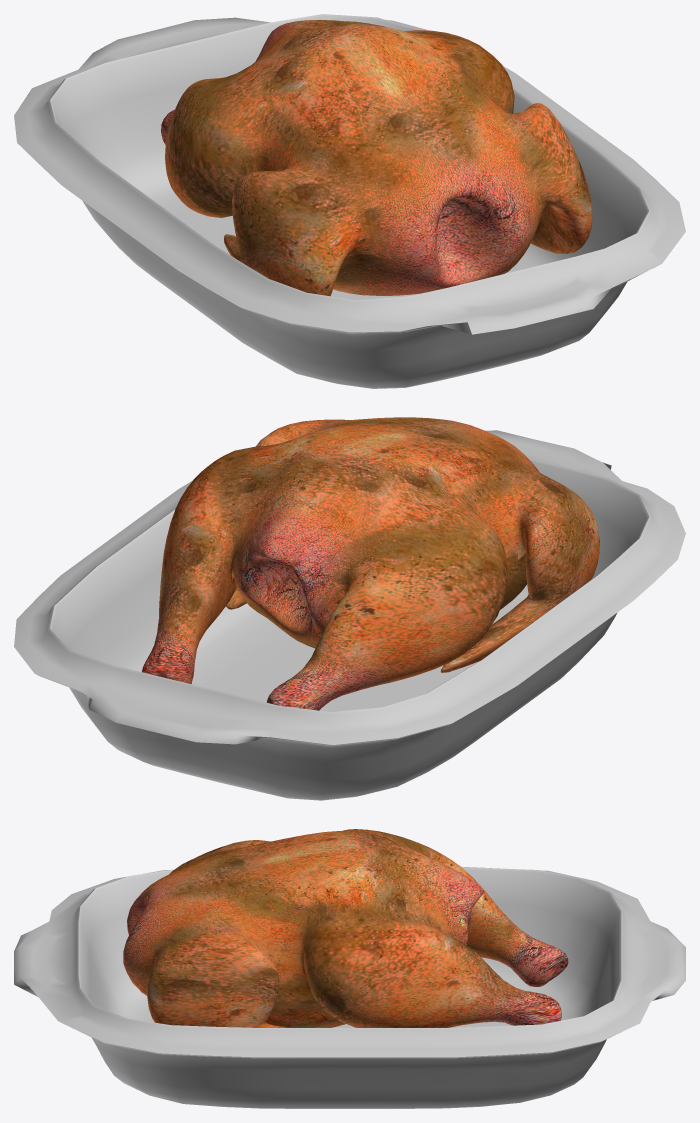
File: pollo.fbx
3 renders of one model, top to bottom at view 1: azimuth 30°, elevation 25°; view 2: azimuth 150°, elevation 25°; view 3: azimuth 270°, elevation 25°, orthographic. The views are drawn at different scales.
Parts seen in each view (by area): view 1: pollo, piatti_remesh; view 2: pollo, piatti_remesh; view 3: piatti_remesh, pollo.
Part boxes in pixels (x1,y1,x2,y2): pollo: (161, 20, 592, 296); piatti_remesh: (14, 14, 685, 388); pollo: (141, 417, 599, 710); piatti_remesh: (14, 430, 685, 800); piatti_remesh: (14, 866, 685, 1108); pollo: (123, 829, 568, 1027).
Size of the model in its own units: 26.93 by 13.61 by 40.09.
